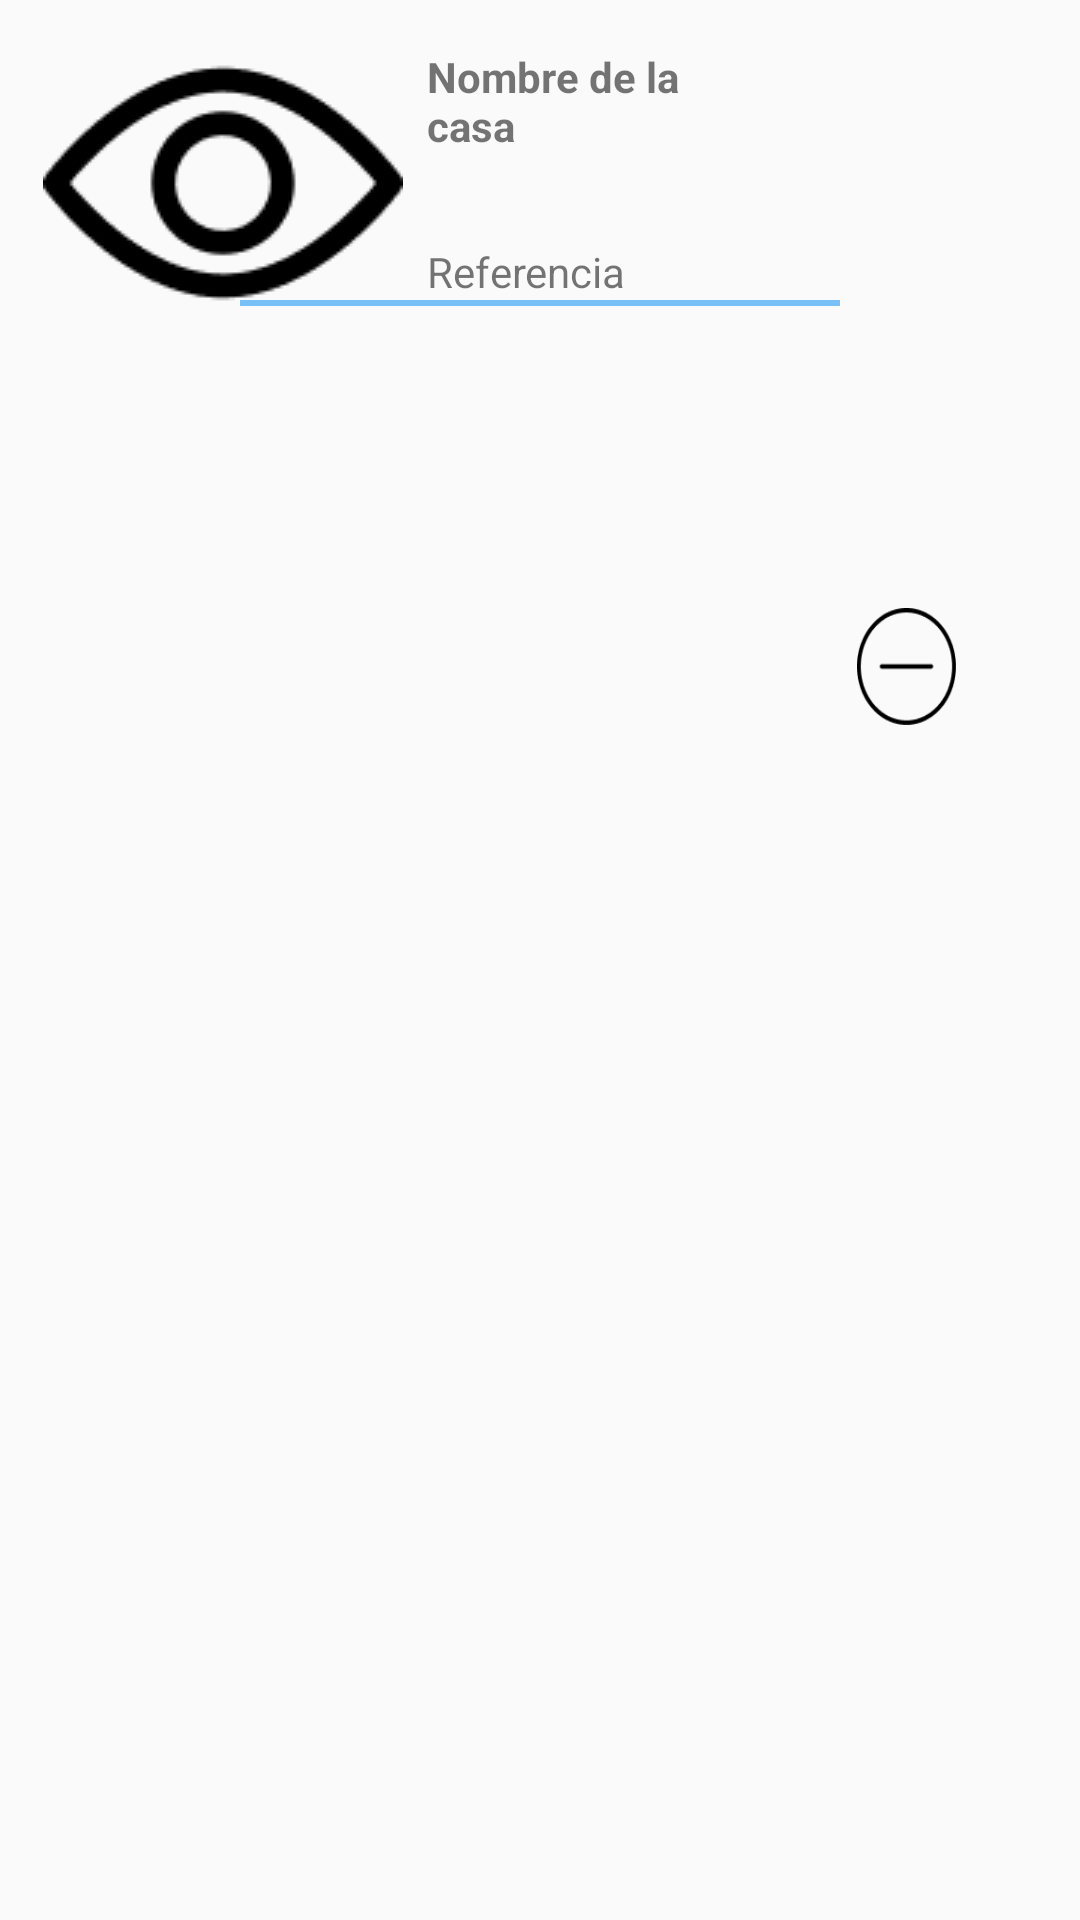

Locate icon controls on the screen. Image size 1080*1920, boxes as (x1, y1, x2, y2).
password eye: (43, 66, 403, 300)
